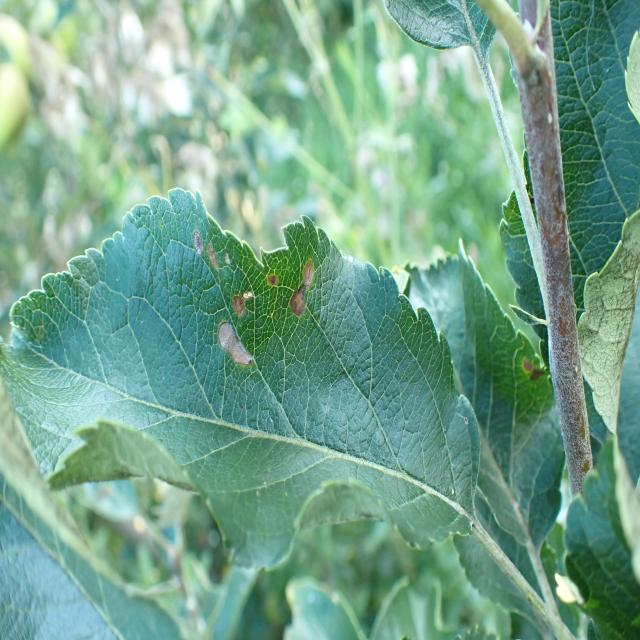frog-eye-leaf-spot: (2, 187, 480, 572)
